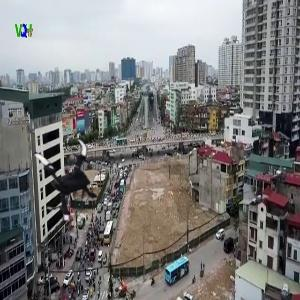drone: (23, 137, 116, 230)
